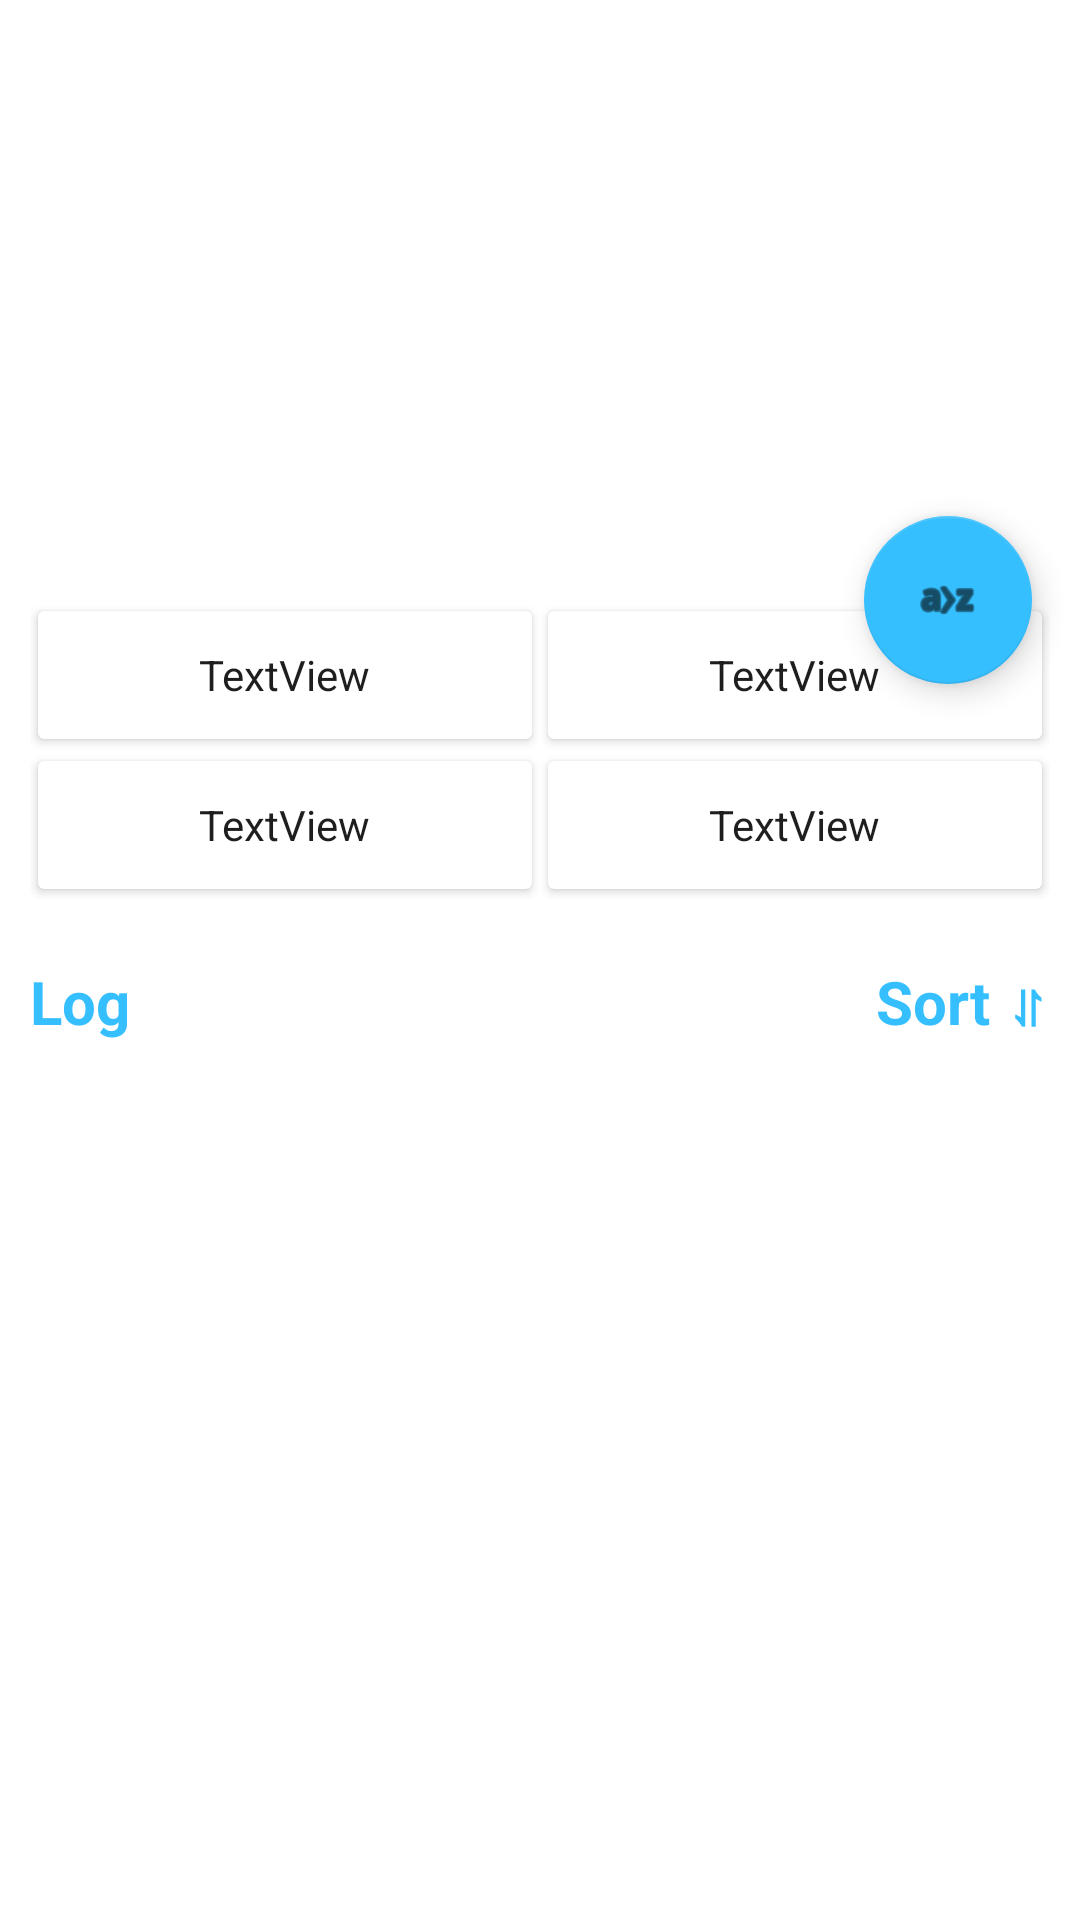

Screen size 1080*1920. Icon name, then its center in pixels as point (x, y):
sort alphabetically: point (948, 600)
